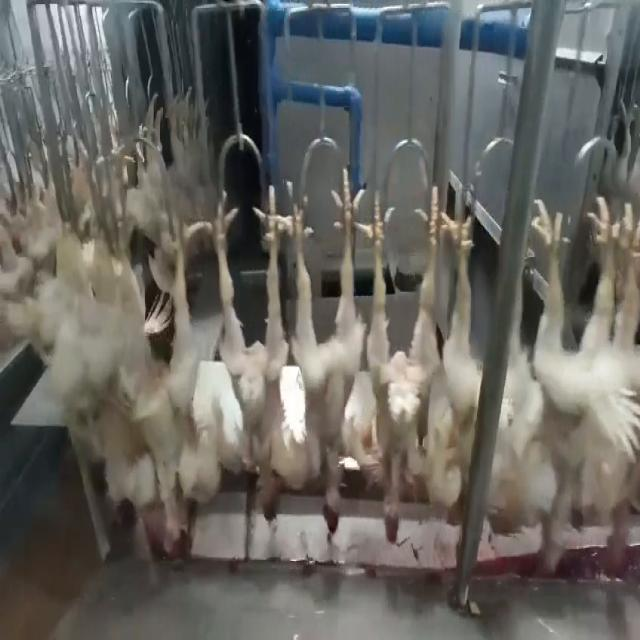chicken: (360, 186, 450, 547), (291, 176, 366, 541), (520, 201, 589, 572), (134, 219, 206, 567), (218, 191, 289, 523), (584, 186, 639, 582), (436, 205, 491, 532)
